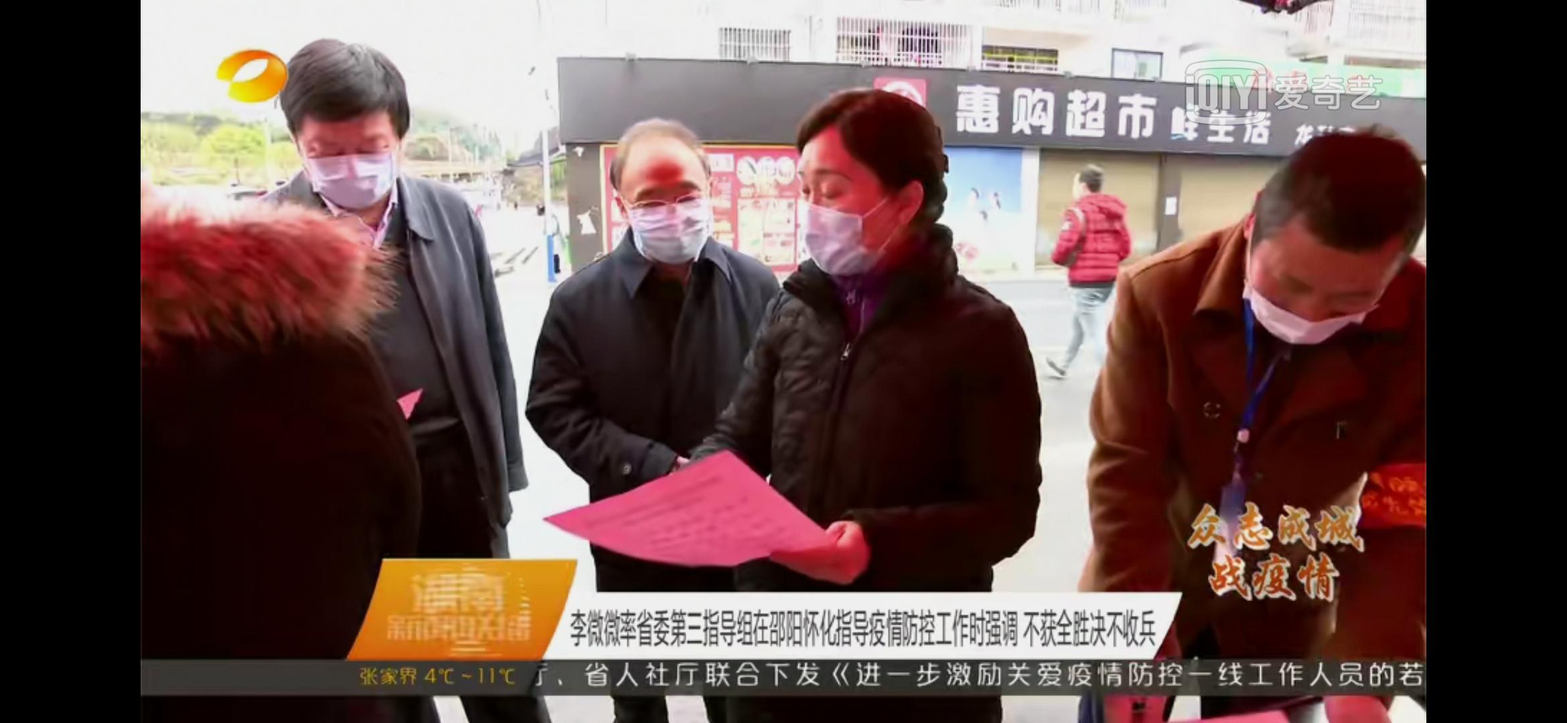OK: (798, 153, 886, 276), (625, 165, 713, 264), (302, 120, 398, 209)
WRONG: (1249, 240, 1392, 346)
